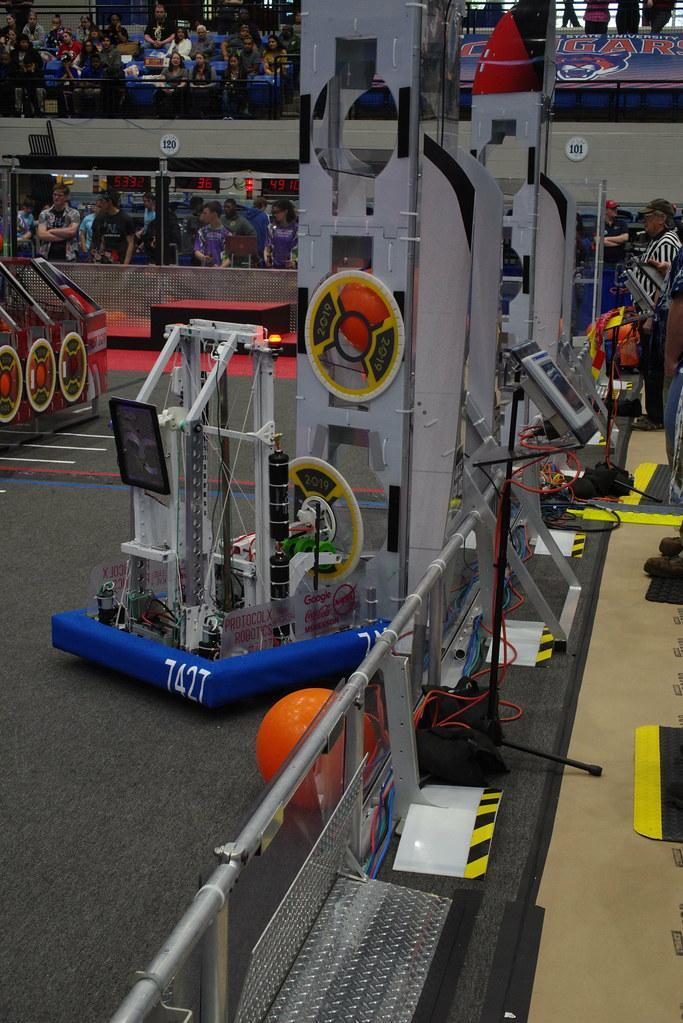robot: (48, 306, 398, 712)
